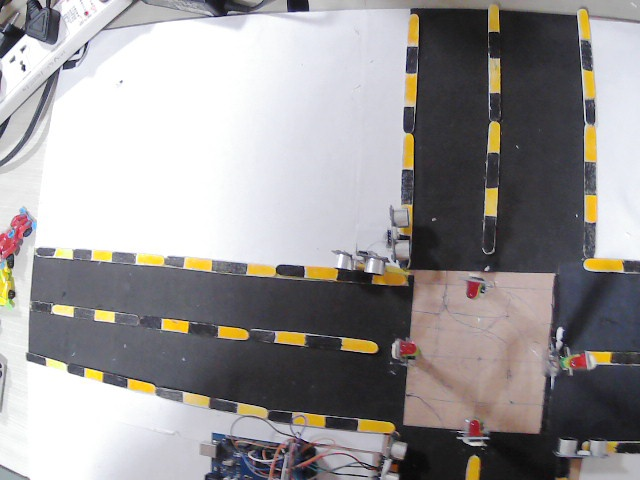black_strip: (481, 218, 503, 253), (119, 310, 161, 328), (405, 41, 426, 76), (478, 40, 507, 61), (398, 172, 416, 205), (487, 94, 504, 127), (578, 40, 597, 68), (400, 107, 416, 140), (188, 319, 219, 336), (212, 260, 247, 275), (483, 163, 506, 185), (212, 395, 236, 416), (309, 333, 340, 348), (337, 268, 370, 282), (265, 409, 290, 427), (582, 169, 600, 193), (615, 349, 640, 365), (584, 104, 602, 126), (102, 373, 126, 389), (620, 257, 640, 276), (114, 250, 136, 267), (279, 264, 303, 279), (252, 327, 273, 344), (157, 388, 182, 402), (73, 308, 97, 321), (34, 247, 56, 261), (31, 299, 50, 313), (66, 362, 82, 378), (165, 255, 185, 267), (76, 249, 92, 261), (28, 353, 42, 366)
car: (0, 213, 36, 261)
mixed_lane: (24, 355, 390, 431), (29, 297, 382, 356), (576, 5, 640, 279), (31, 246, 411, 286), (383, 12, 420, 248), (481, 8, 502, 261), (548, 439, 640, 480), (459, 413, 487, 480), (588, 345, 640, 368)
traffic_light: (464, 417, 484, 445), (562, 353, 590, 369), (467, 281, 482, 310), (398, 345, 420, 361)
uno_breadboard: (193, 431, 318, 480), (370, 439, 405, 480), (385, 204, 409, 254)
yellow_strip: (237, 402, 267, 421), (341, 337, 376, 353), (584, 259, 623, 273), (305, 266, 339, 281), (580, 196, 596, 227), (290, 414, 328, 427), (583, 124, 595, 163), (485, 124, 501, 153), (375, 271, 408, 285), (362, 420, 395, 434), (404, 135, 417, 170), (135, 252, 164, 266), (219, 325, 250, 338), (408, 16, 422, 44), (126, 380, 154, 394), (583, 68, 595, 100), (246, 266, 275, 279), (184, 393, 209, 408), (270, 334, 304, 345), (482, 190, 496, 216), (186, 258, 209, 273), (44, 354, 64, 371), (404, 75, 416, 103), (580, 10, 592, 38), (162, 318, 186, 331), (82, 369, 104, 383), (469, 456, 482, 478), (590, 440, 613, 451), (53, 304, 72, 316), (592, 350, 611, 362), (94, 250, 111, 262), (98, 312, 113, 324), (57, 248, 72, 259)
